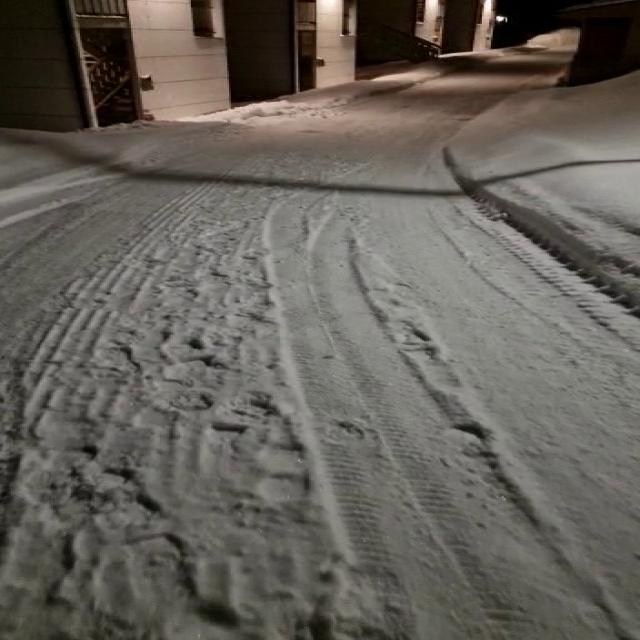path: (0, 51, 636, 640)
